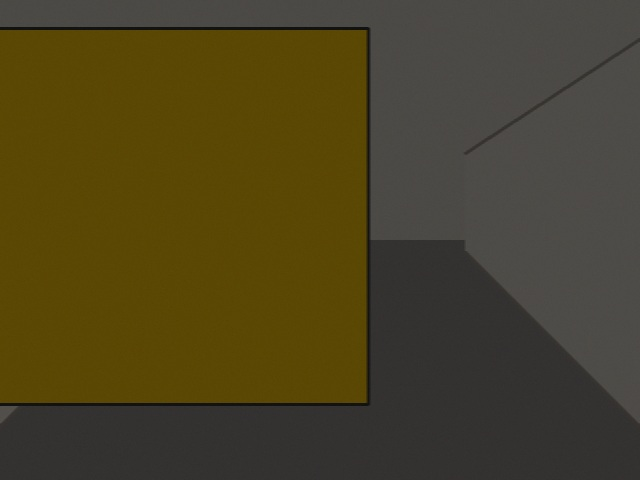directional_sign: (209, 104, 342, 173)
forklift: (0, 0, 368, 404)
